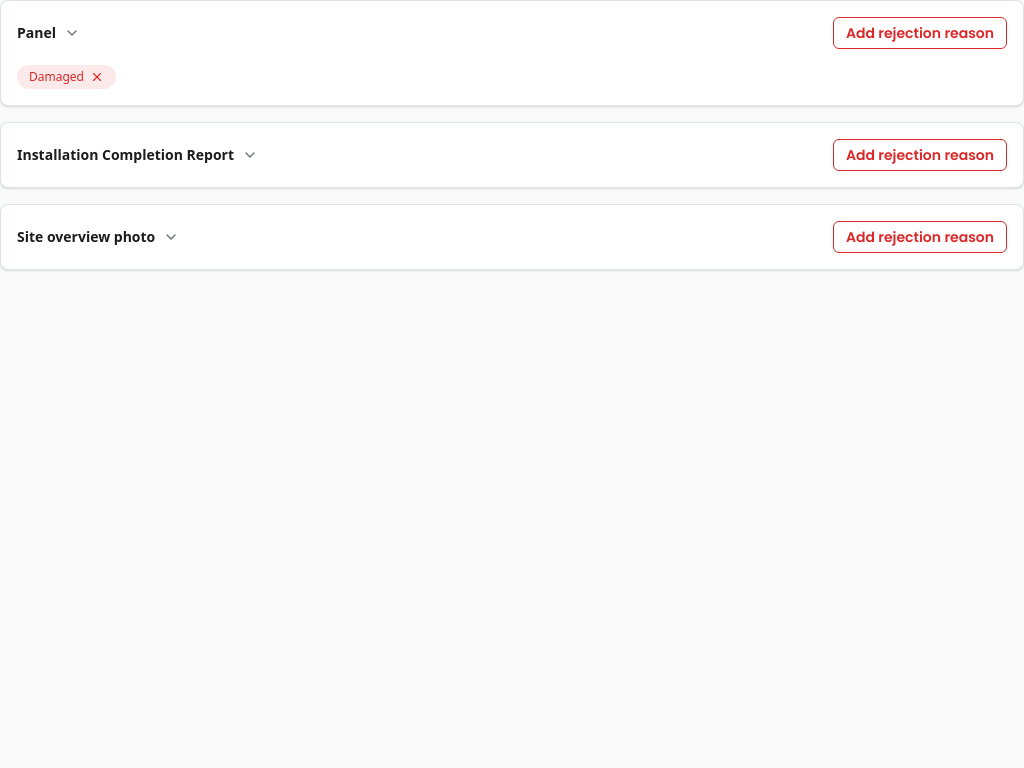
Scenario: ReviewSections › excludes a reason code already used elsewhere in the section from the dialog's options
Click the 1st button "Add rejection reason": x=920, y=33 [833, 17, 1007, 49]
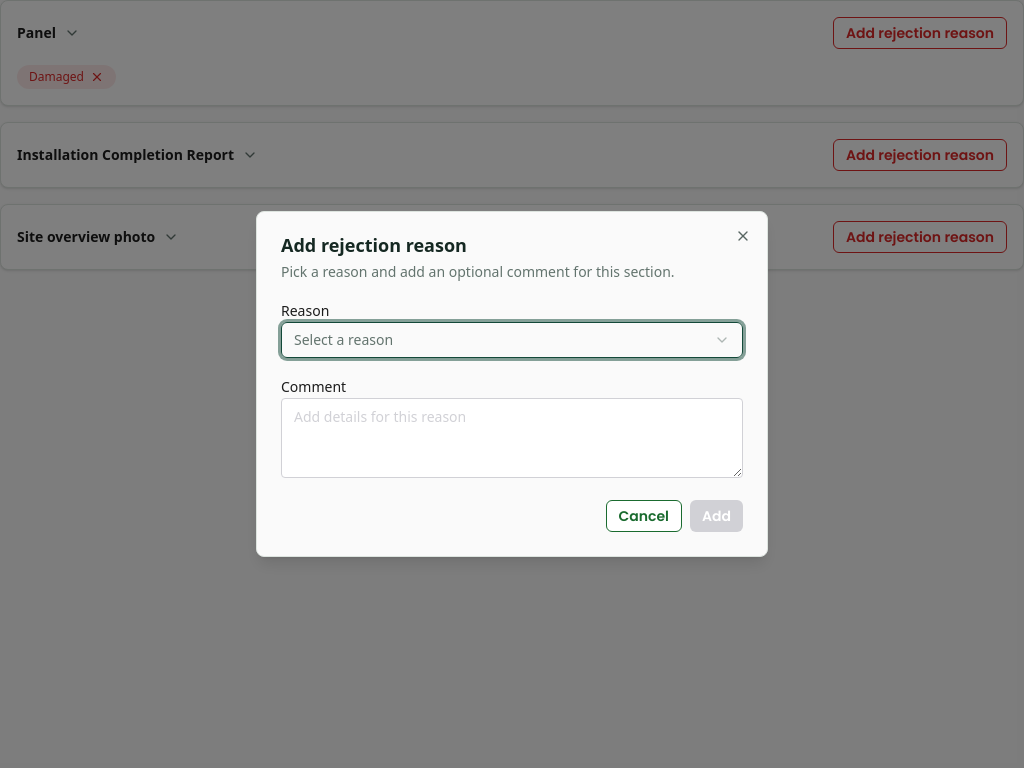
Click the dropdown: x=344, y=340 [281, 322, 743, 358]
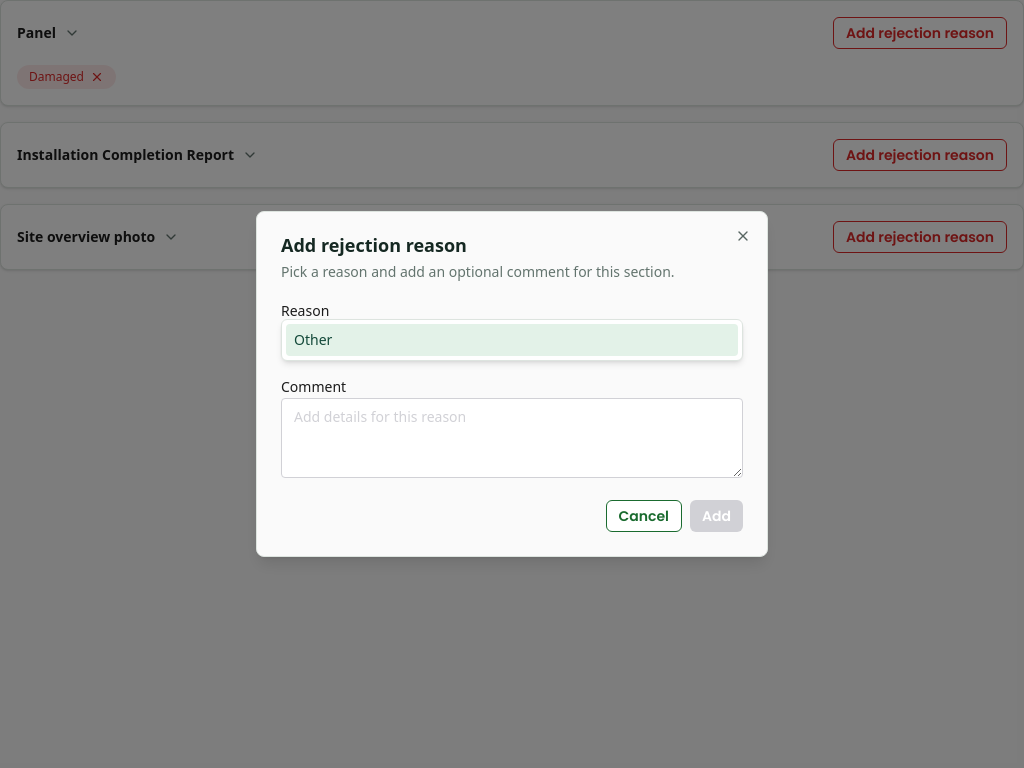
Check: the option "Other" is shown, box [286, 324, 738, 356]
